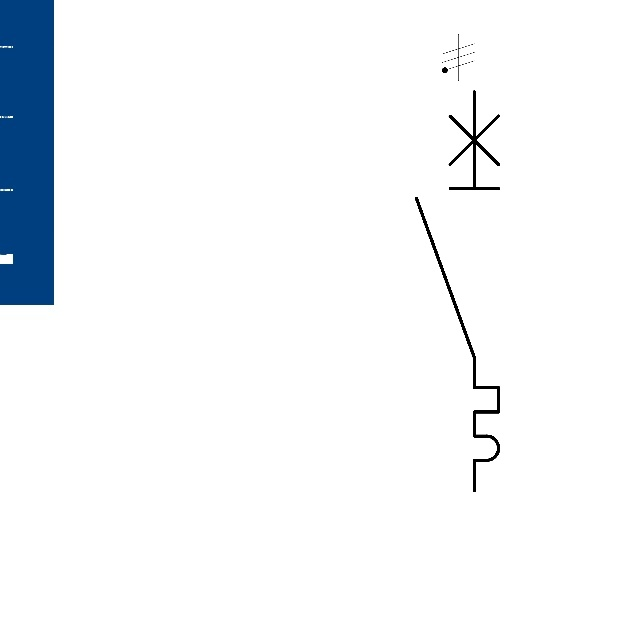interruptor_termomagnetico: (406, 81, 509, 501)
